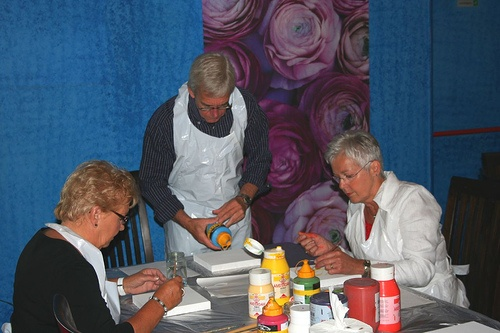head: (55, 154, 136, 251), (324, 129, 384, 205), (181, 51, 241, 127)
person: (2, 148, 183, 331), (140, 49, 269, 258), (291, 129, 462, 286)
